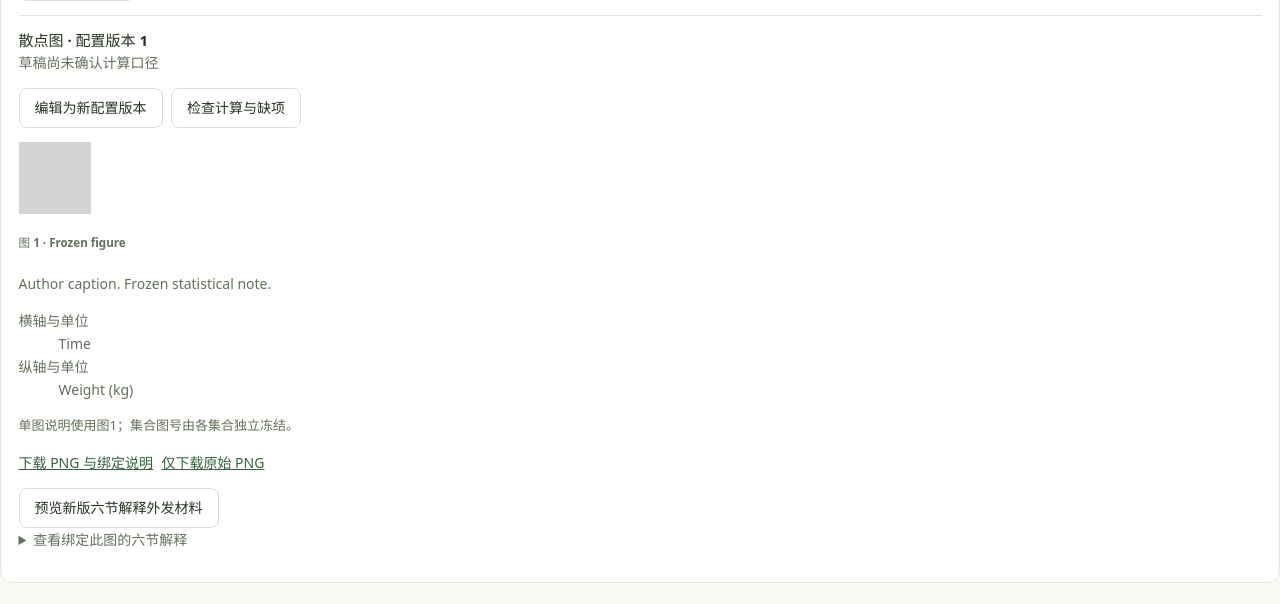
Scenario: v3 figure with historical explanation v3 upgrades only after explicit external approval
(page scrolled)
Click the button "预览新版六节解释外发材料".
click(118, 508)  # box [18, 488, 218, 528]
(page scrolled)
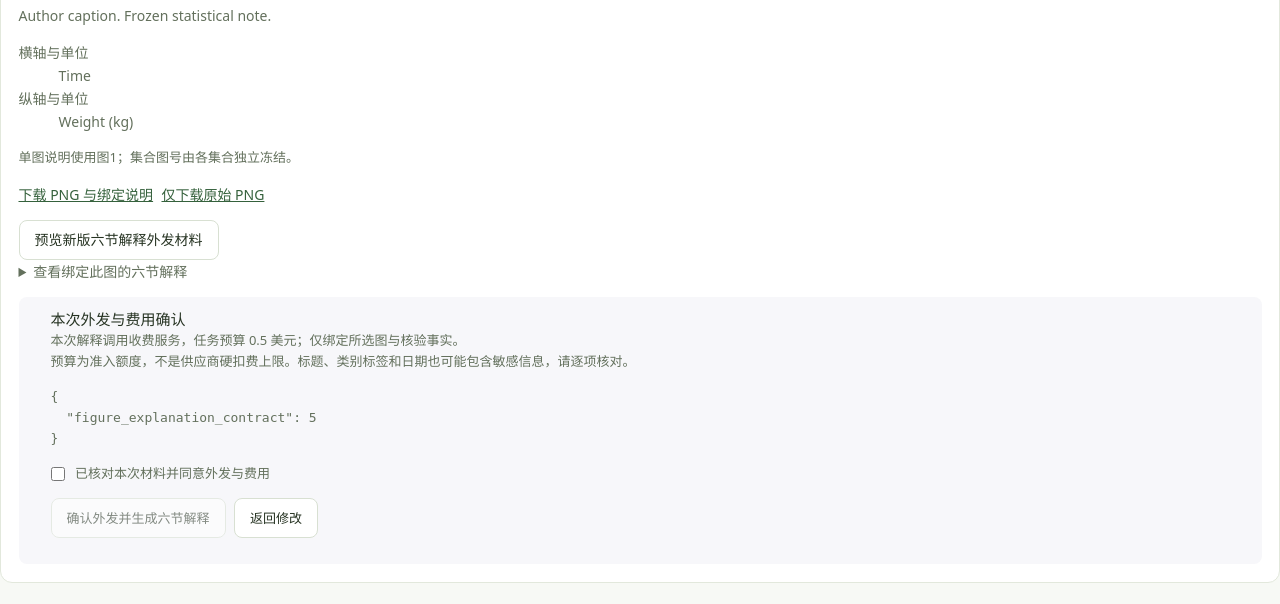
Expected: the button "确认外发并生成六节解释" is disabled, [50, 498, 226, 538]
Click the checkbox labelled "已核对本次材料并同意外发与费用".
click(58, 474)  # box [50, 467, 64, 481]
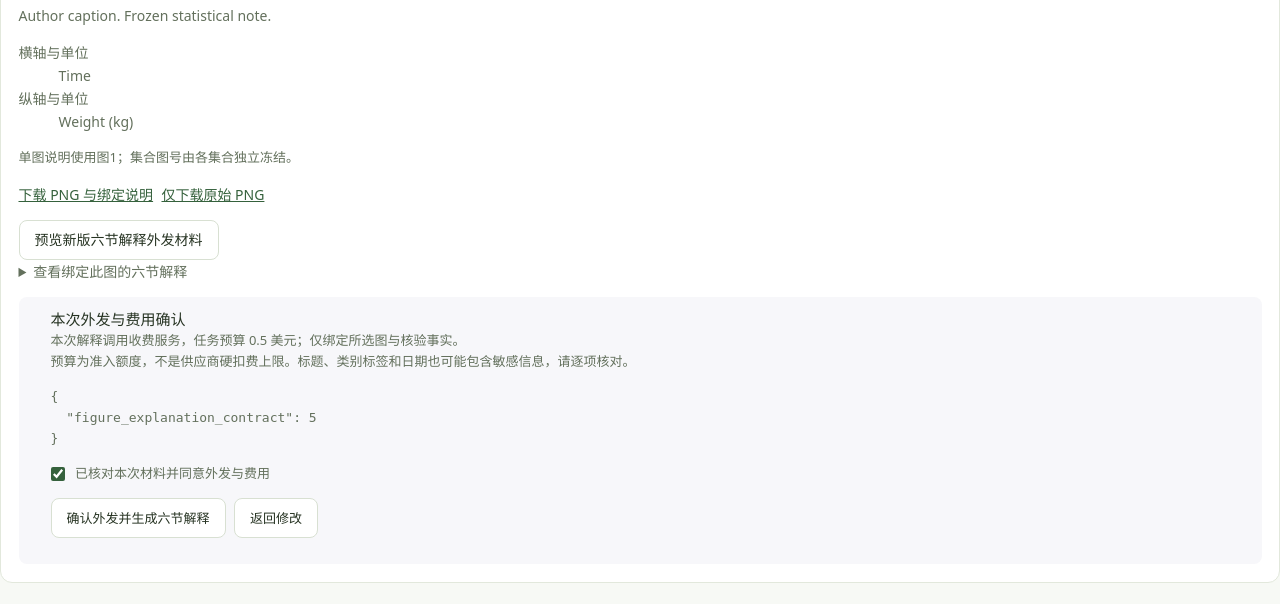
Click the button "确认外发并生成六节解释".
click(138, 518)  # box [50, 498, 226, 538]
(page scrolled)
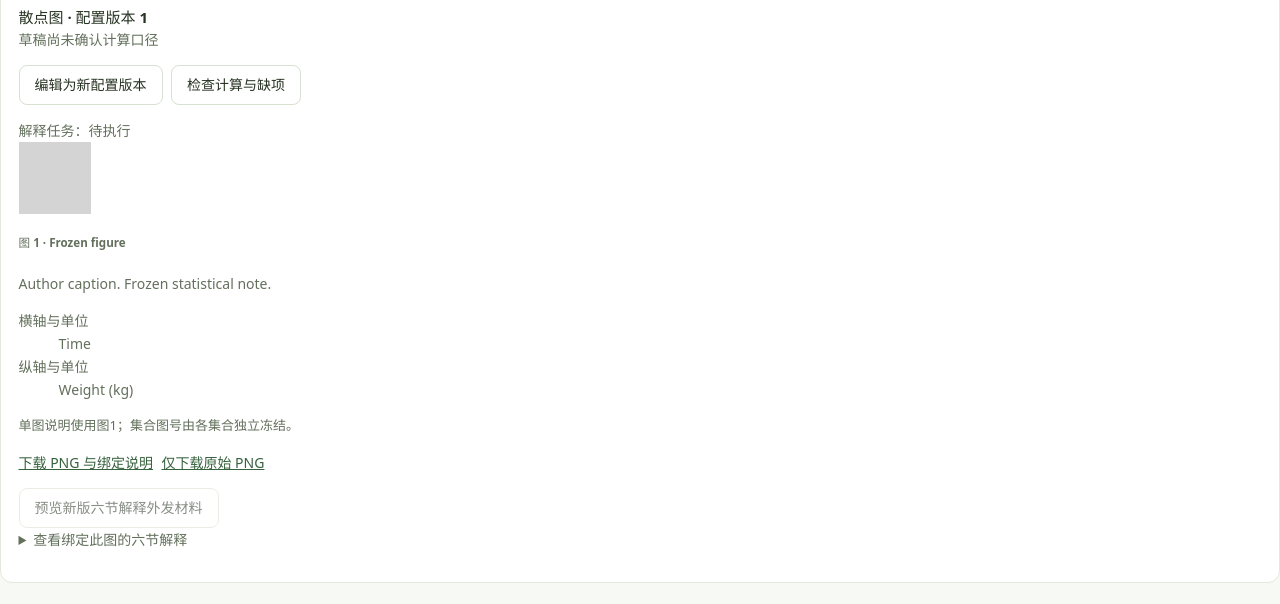
Expected: the button "预览新版六节解释外发材料" is disabled, [18, 488, 218, 528]
